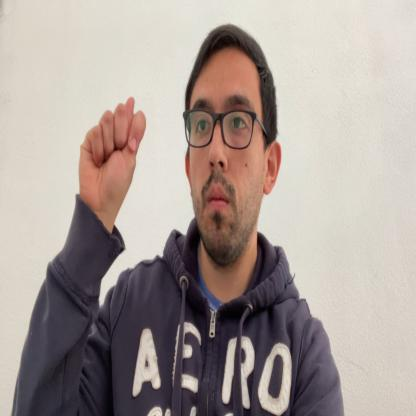T: (80, 95, 146, 223)
